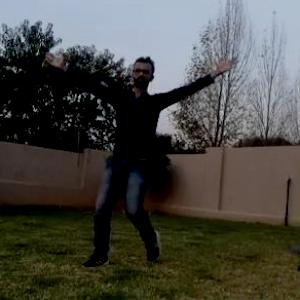takeoff: (44, 49, 233, 256)
